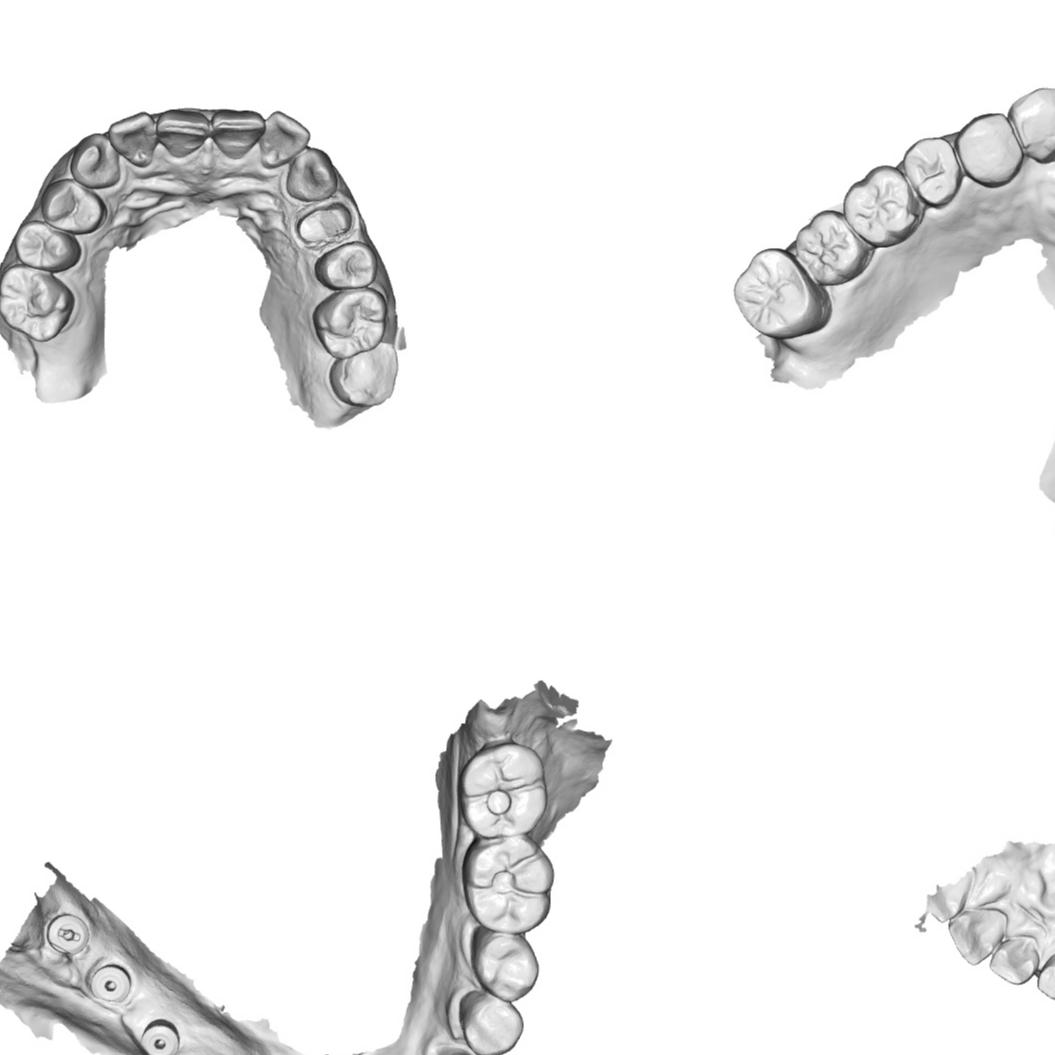canine: (1009, 79, 1055, 164), (67, 131, 125, 190), (282, 145, 339, 202), (1036, 946, 1055, 1003)
crown: (292, 200, 356, 246)
implant: (88, 963, 132, 1003), (140, 1019, 180, 1055)
implant_minus: (43, 914, 95, 958)
incisor: (947, 908, 1008, 968), (258, 108, 314, 170), (105, 110, 161, 168), (152, 106, 212, 160), (208, 106, 265, 161), (988, 934, 1040, 986)
molar: (459, 835, 556, 933), (731, 244, 827, 343), (458, 739, 549, 838), (841, 163, 925, 249), (787, 208, 870, 288), (0, 263, 75, 343), (310, 285, 390, 360), (327, 340, 400, 409)
premolar: (953, 108, 1023, 188), (467, 929, 540, 1003), (901, 135, 962, 210), (11, 219, 83, 273), (41, 178, 107, 236), (461, 995, 524, 1055), (313, 240, 380, 293)
